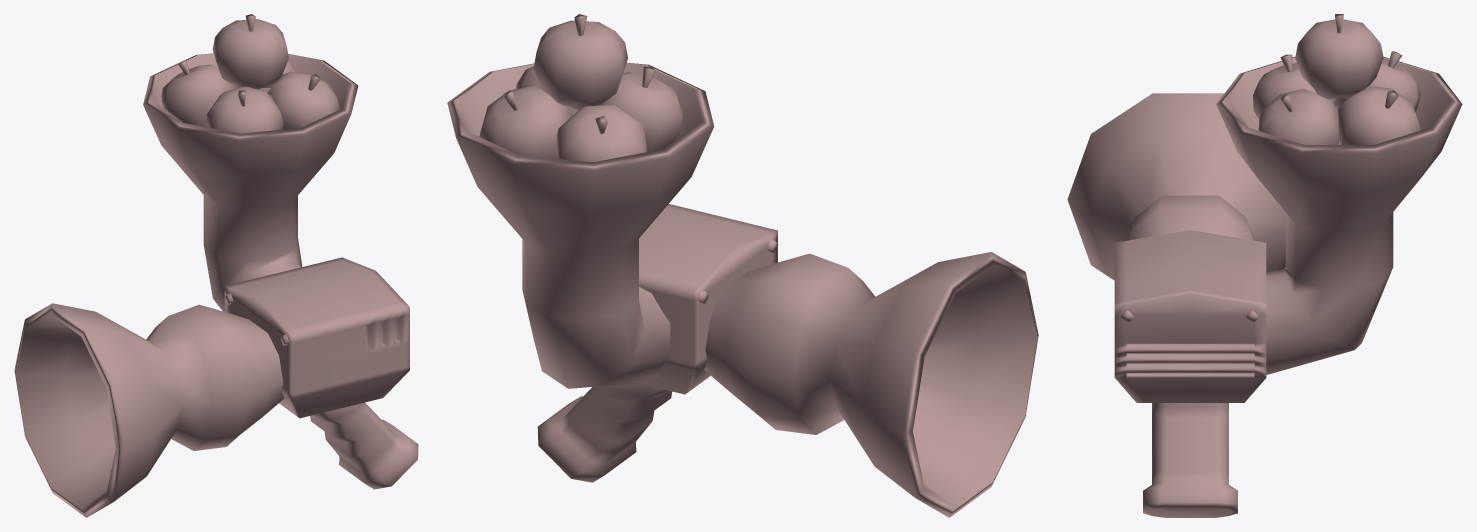
File: Pistola manzana v1.fbx
The picture shows the model from 3 angles, left to right: view 1: azimuth 30°, elevation 25°; view 2: azimuth 150°, elevation 25°; view 3: azimuth 270°, elevation 25°; orthographic projection. The views are drawn at different scales.
Parts seen in each view (by area): view 1: pPipe2, pPipe1, pCube1, pCube6, Manzana6, Manzana2, Manzana5, Manzana4; view 2: pPipe2, pPipe1, pCube1, pCube6, Manzana6, Manzana3, Manzana2, Manzana4; view 3: pPipe1, pPipe2, pCube1, pCube6, Manzana6, Manzana3, Manzana5, Manzana4, Manzana2.
Part boxes in pixels (<box>): pPipe2: <box>14,303,284,517</box>; pPipe1: <box>143,53,358,311</box>; pCube1: <box>224,257,409,418</box>; pCube6: <box>310,402,418,489</box>; Manzana6: <box>212,14,288,89</box>; Manzana2: <box>161,60,235,127</box>; Manzana5: <box>267,71,339,129</box>; Manzana4: <box>205,86,283,133</box>; pPipe2: <box>704,252,1038,517</box>; pPipe1: <box>447,62,714,388</box>; pCube1: <box>631,204,777,394</box>; pCube6: <box>537,381,672,482</box>; Manzana6: <box>533,14,627,110</box>; Manzana3: <box>479,86,571,158</box>; Manzana2: <box>556,105,647,161</box>; Manzana4: <box>600,66,682,151</box>; pPipe1: <box>1216,56,1462,374</box>; pPipe2: <box>1067,93,1285,280</box>; pCube1: <box>1114,230,1266,402</box>; pCube6: <box>1143,403,1237,517</box>; Manzana6: <box>1295,14,1383,99</box>; Manzana3: <box>1338,86,1420,144</box>; Manzana5: <box>1258,88,1338,144</box>; Manzana4: <box>1253,54,1336,118</box>; Manzana2: <box>1336,51,1420,111</box>.
Size of the model in its own units: 9.25 by 11 by 8.27.
